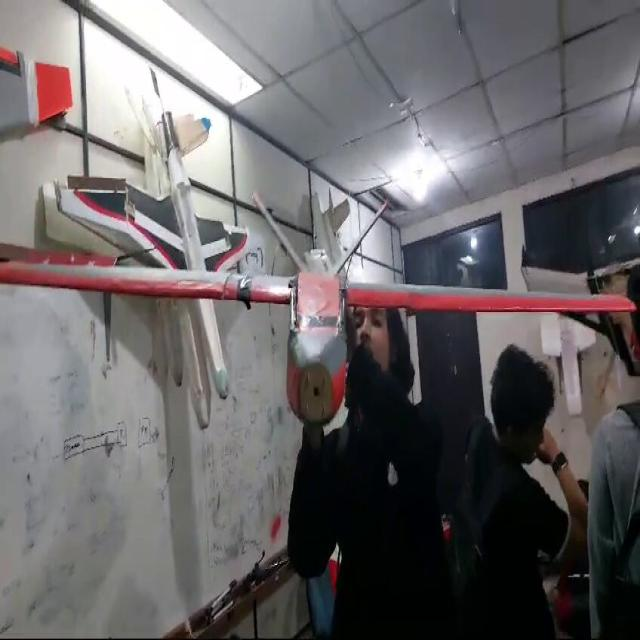plane: (0, 64, 638, 430)
